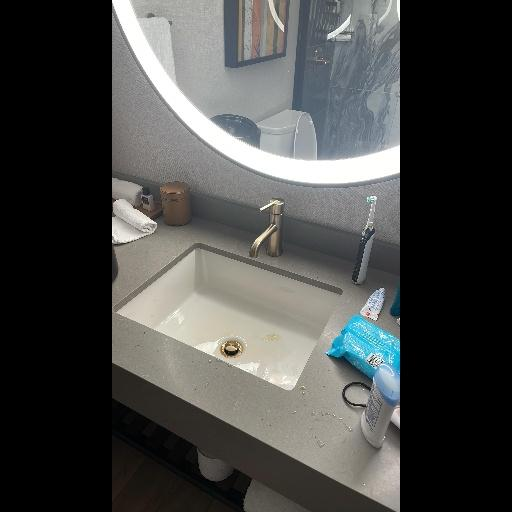mess: (297, 383, 353, 457), (263, 328, 292, 347)
messy_sink: (112, 165, 399, 486)
